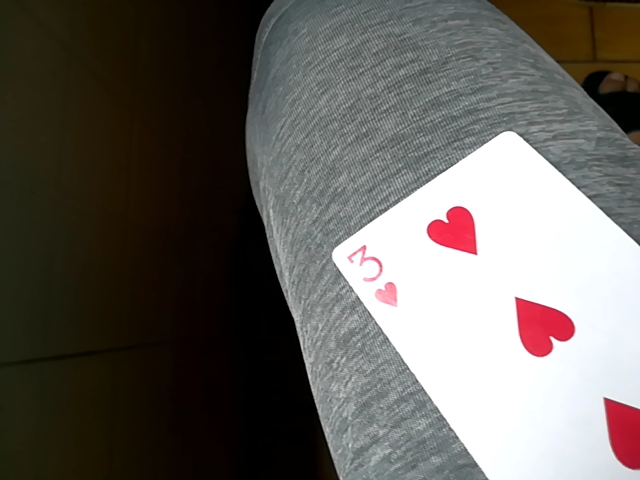hx 3: (329, 131, 640, 480)
